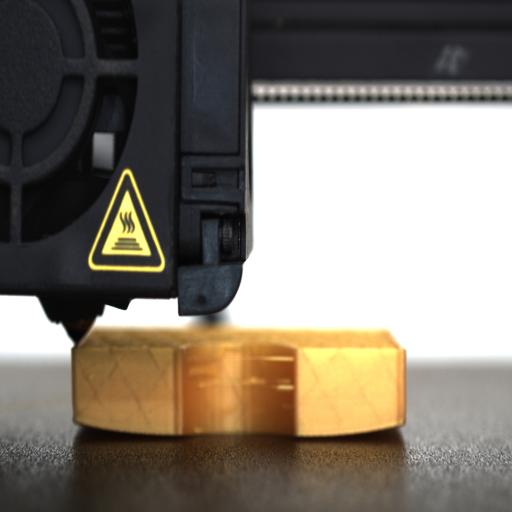warp: (344, 414, 408, 442), (71, 413, 130, 443)
